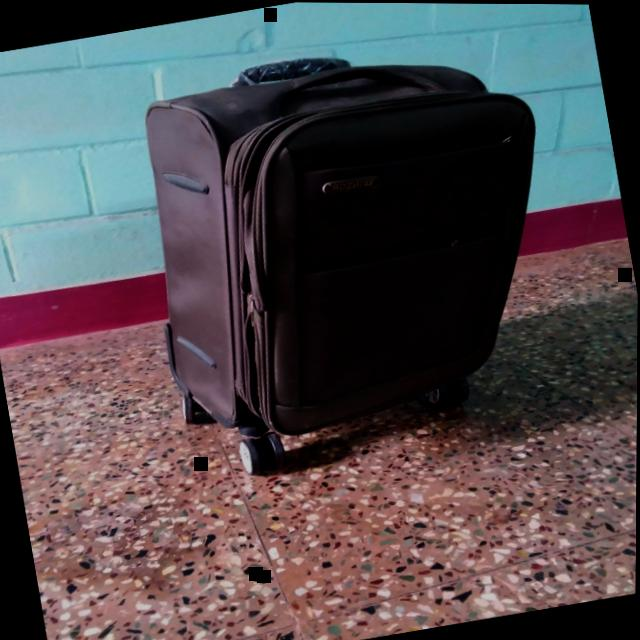luggage: (117, 21, 589, 460)
